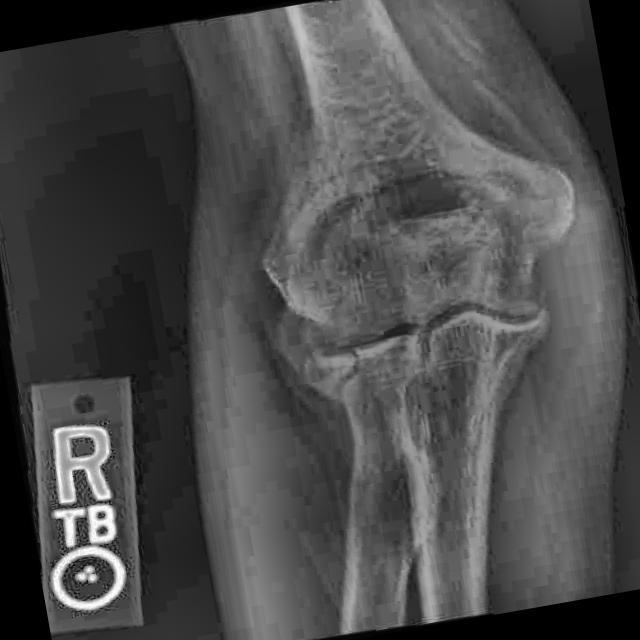elbow positive: (262, 305, 429, 427)
